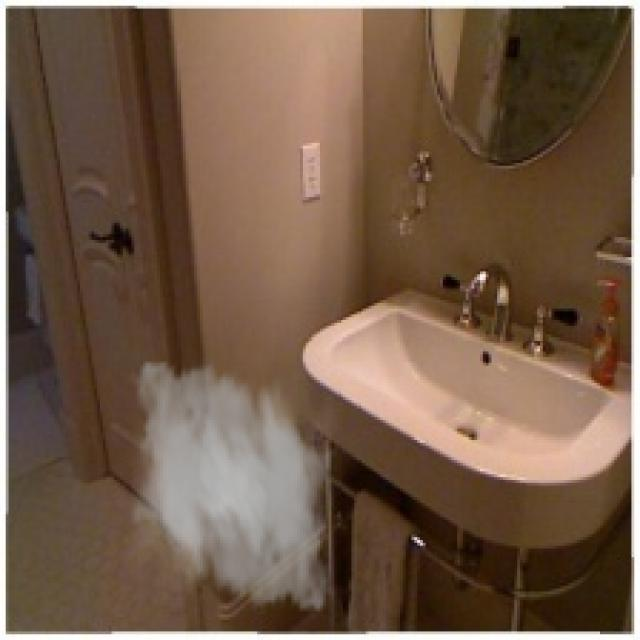smoke: (120, 348, 351, 623)
